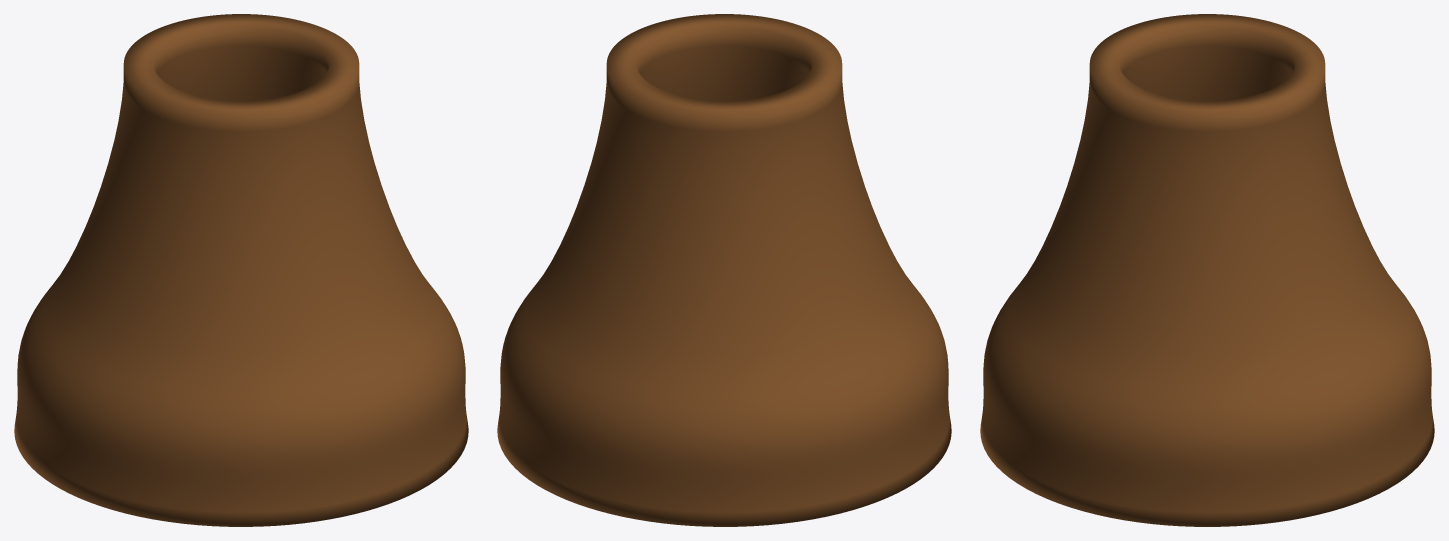
File: volcano.fbx
3 views of the same model, side by side, from view 1: azimuth 30°, elevation 25°; view 2: azimuth 150°, elevation 25°; view 3: azimuth 270°, elevation 25° (orthographic).
Parts seen in each view (by area): view 1: NurbsCircle; view 2: NurbsCircle; view 3: NurbsCircle.
Boxes of the visible parts, <box> form: NurbsCircle: <box>14,14,468,526</box>; NurbsCircle: <box>497,14,951,526</box>; NurbsCircle: <box>980,14,1434,526</box>.
Size of the model in its own units: 458 by 412 by 458.
